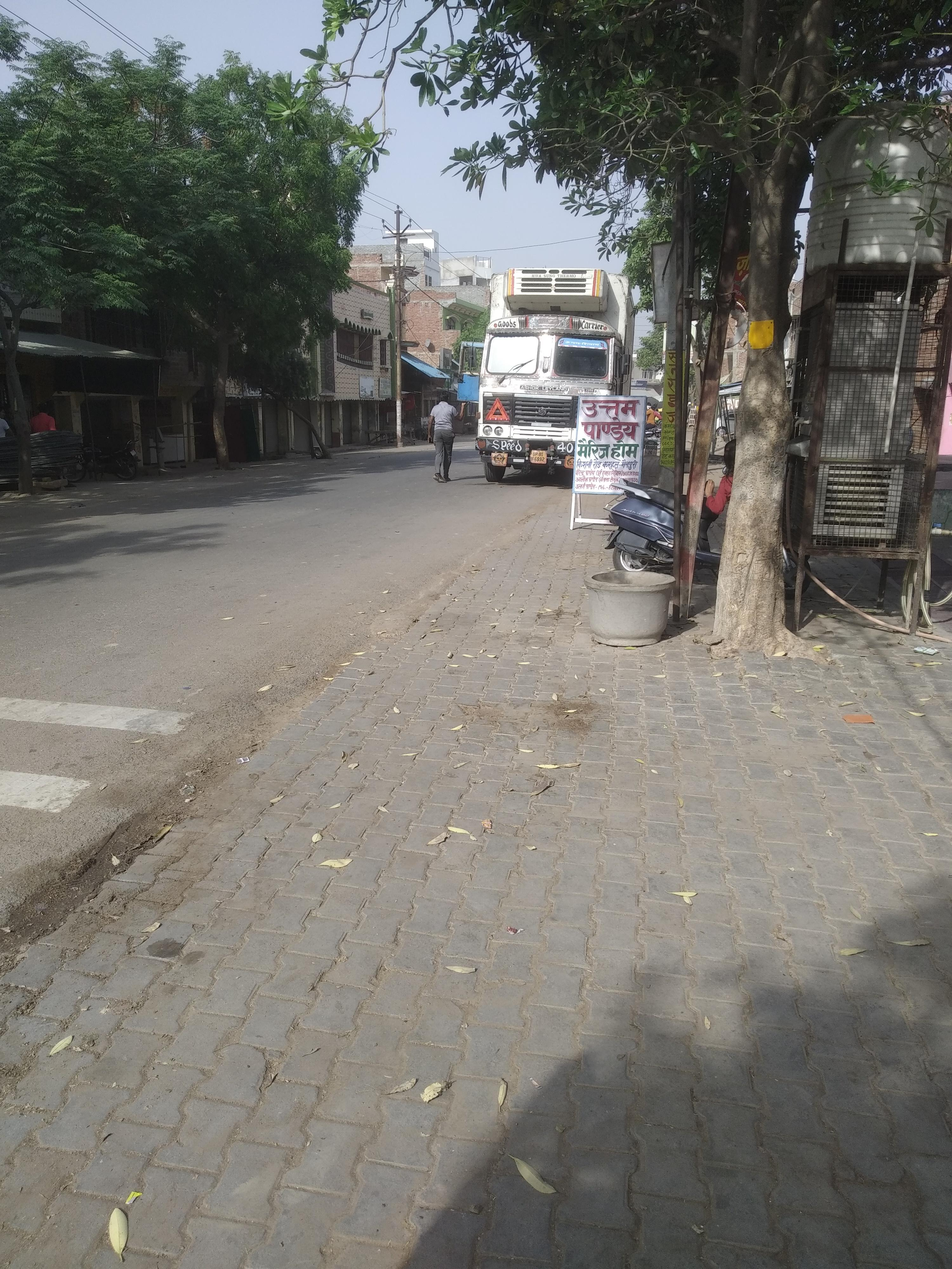Non-emergency: (445, 189, 656, 509)
